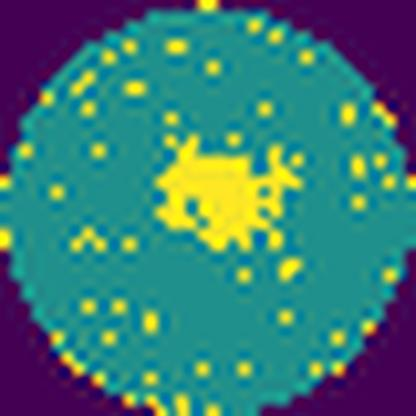Center: (157, 134, 302, 251)
